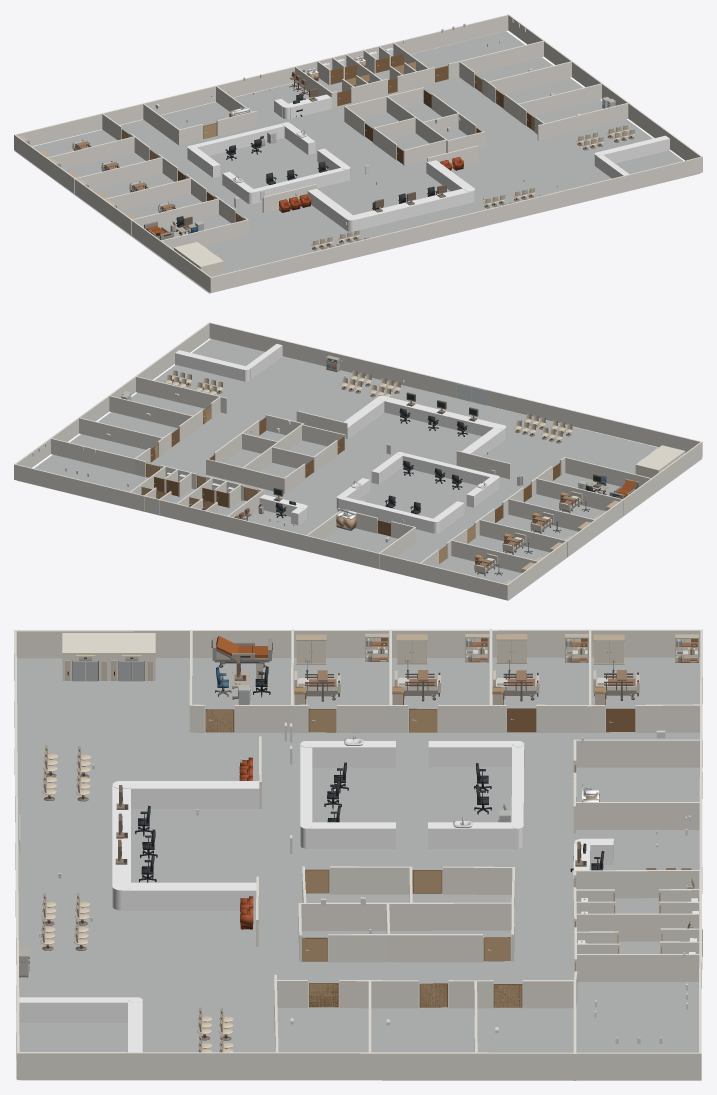
The model's file is hospital_L1.glb.
3 views of the same model, one above another, from view 1: azimuth 30°, elevation 25°; view 2: azimuth 150°, elevation 25°; view 3: azimuth 270°, elevation 25° (orthographic). The views are drawn at different scales.
Visible parts, largest first — view 1: hospital_L1__wall_1__wall_1, Hospital_Floor, Reception_Front_Body, Reception_Front_Body.001, hospital_L1__wall_2__wall_2, Reception_Front_Body.002, Reception_Left_Body.005, Reception_Left_Body, Reception_Right_Body, Reception_Front_Body.003, BEAUTY_Elevator_02_Body, Reception_Right_Body.002 (+2 smaller); view 2: hospital_L1__wall_1__wall_1, Hospital_Floor, Reception_Front_Body, hospital_L1__wall_2__wall_2, Reception_Front_Body.002, Reception_Front_Body.001, Reception_Left_Body.005, Reception_Right_Body, Reception_Left_Body, Reception_Front_Body.005, BEAUTY_Elevator_01_Body, Reception_Right_Body.001 (+3 smaller); view 3: Hospital_Floor, hospital_L1__wall_1__wall_1, Reception_Right_Body, Reception_Left_Body, Reception_Front_Body.005, Reception_Right_Body.001, Reception_Left_Body.002, Reception_Right_Body.002, Reception_Left_Body.001, BEAUTY_Elevator_01_Body, BEAUTY_Elevator_02_Body, Reception_Front_Body (+6 smaller).
Part boxes in pixels (left/top/right/bottom): hospital_L1__wall_1__wall_1: left=14, top=14, right=702, bottom=293; Hospital_Floor: left=14, top=31, right=700, bottom=293; Reception_Front_Body: left=354, top=188, right=472, bottom=231; Reception_Front_Body.001: left=253, top=168, right=348, bottom=203; hospital_L1__wall_2__wall_2: left=262, top=145, right=478, bottom=212; Reception_Front_Body.002: left=193, top=123, right=284, bottom=155; Reception_Left_Body.005: left=598, top=135, right=669, bottom=163; Reception_Left_Body: left=307, top=188, right=354, bottom=230; Reception_Right_Body: left=426, top=160, right=472, bottom=191; Reception_Front_Body.003: left=288, top=94, right=331, bottom=118; BEAUTY_Elevator_02_Body: left=187, top=251, right=223, bottom=276; Reception_Right_Body.002: left=187, top=146, right=220, bottom=177; hospital_L1__wall_1__wall_1: left=14, top=322, right=702, bottom=600; Hospital_Floor: left=17, top=339, right=702, bottom=600; Reception_Front_Body: left=384, top=396, right=500, bottom=436; hospital_L1__wall_2__wall_2: left=296, top=410, right=510, bottom=479; Reception_Front_Body.002: left=339, top=497, right=433, bottom=533; Reception_Front_Body.001: left=402, top=453, right=493, bottom=485; Reception_Left_Body.005: left=175, top=350, right=246, bottom=381; Reception_Right_Body: left=344, top=398, right=385, bottom=438; Reception_Left_Body: left=461, top=426, right=505, bottom=456; Reception_Front_Body.005: left=246, top=344, right=282, bottom=379; BEAUTY_Elevator_01_Body: left=635, top=455, right=672, bottom=477; Reception_Right_Body.001: left=371, top=453, right=404, bottom=484; Hospital_Floor: left=16, top=657, right=700, bottom=1079; hospital_L1__wall_1__wall_1: left=14, top=629, right=702, bottom=1080; Reception_Right_Body: left=121, top=882, right=256, bottom=910; Reception_Left_Body: left=123, top=781, right=259, bottom=808; Reception_Front_Body.005: left=19, top=997, right=131, bottom=1022; Reception_Right_Body.001: left=306, top=822, right=395, bottom=848; Reception_Left_Body.002: left=428, top=822, right=517, bottom=848; Reception_Right_Body.002: left=428, top=741, right=516, bottom=767; Reception_Left_Body.001: left=306, top=741, right=395, bottom=767; BEAUTY_Elevator_01_Body: left=108, top=633, right=155, bottom=680; BEAUTY_Elevator_02_Body: left=62, top=633, right=109, bottom=680; Reception_Front_Body: left=112, top=785, right=130, bottom=885.
Size of the model in its own units: 37.98 by 1.69 by 26.04.
Materials: 113 (1 with a texture image).
